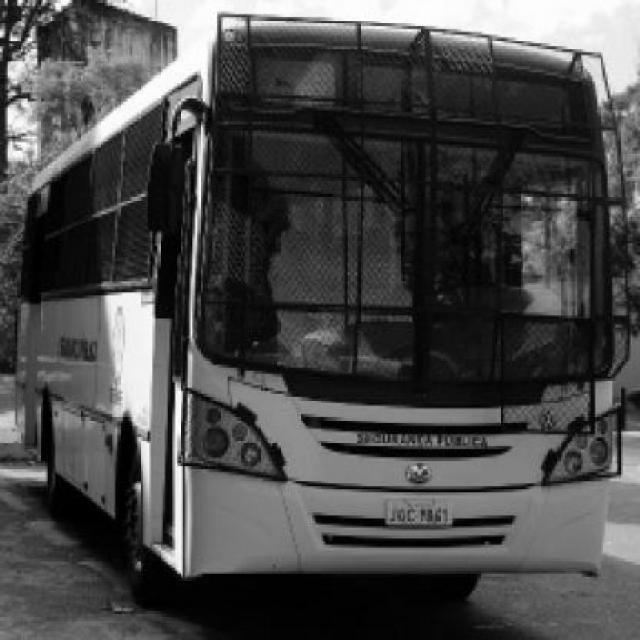Bus: (17, 14, 624, 609)
